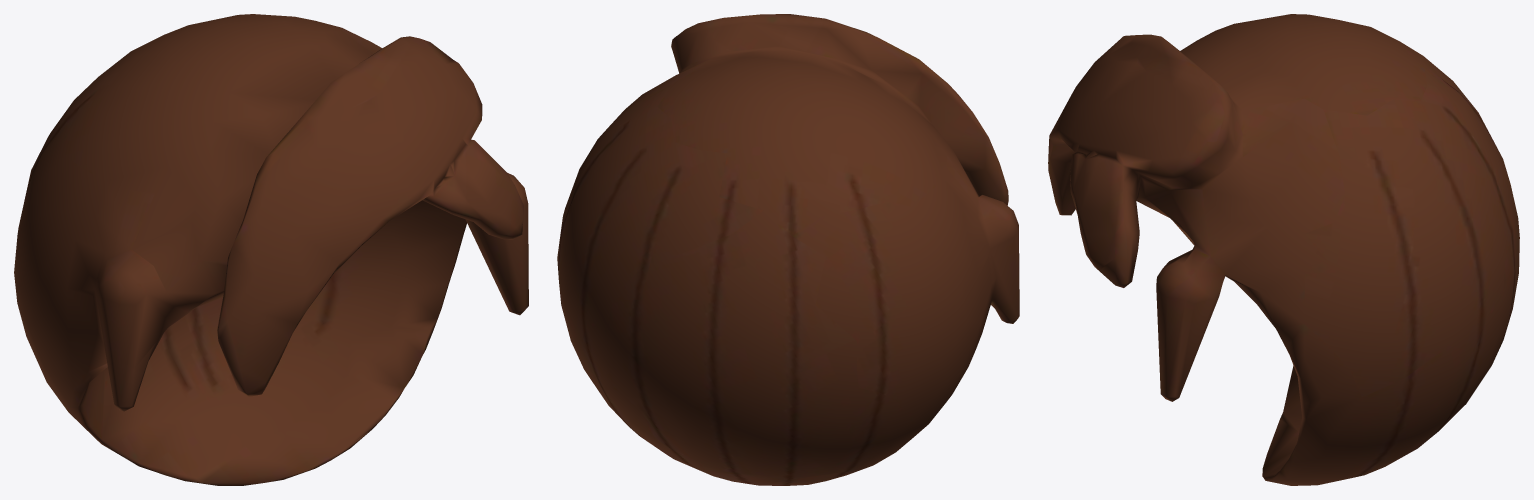
Rendered from avatar-hair-swept.glb.
3 renders of one model, left to right at view 1: azimuth 30°, elevation 25°; view 2: azimuth 150°, elevation 25°; view 3: azimuth 270°, elevation 25°, orthographic. The views are drawn at different scales.
Parts seen in each view (by area): view 1: hair; view 2: hair; view 3: hair.
Part boxes in pixels (x1,y1,x2,y2): hair: [14, 14, 528, 485]; hair: [557, 14, 1019, 485]; hair: [1048, 14, 1519, 485].
Bounding box in the file's own units: 0.4336 × 0.434 × 0.4284.
1 material, 1 textured.
